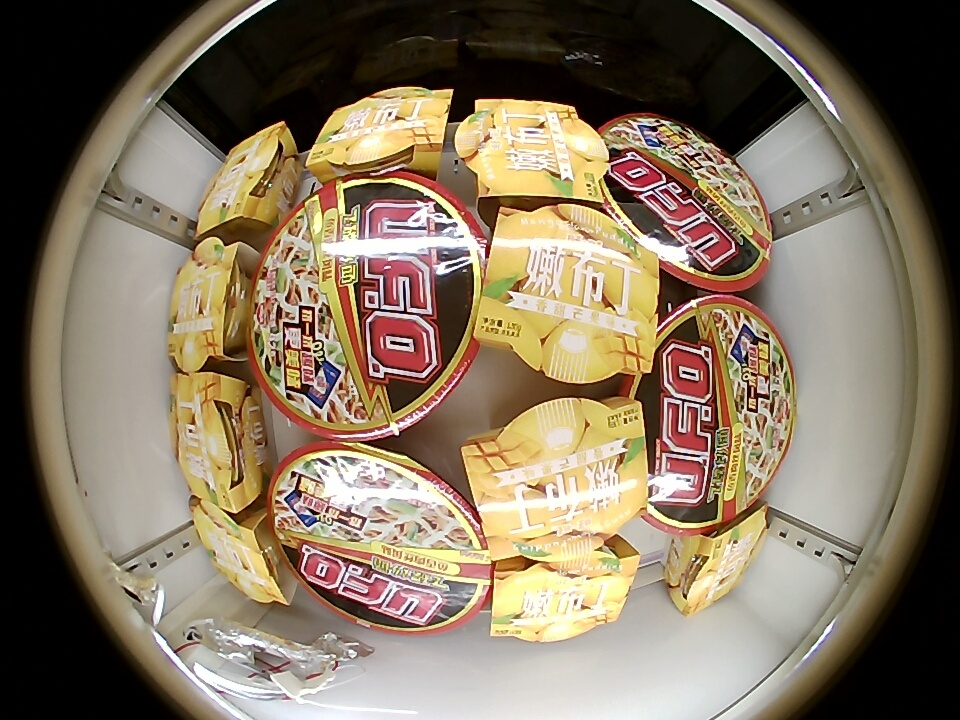buding: (474, 200, 659, 385), (462, 396, 648, 560), (456, 99, 608, 202), (490, 547, 640, 643), (170, 372, 266, 513), (306, 87, 450, 178), (196, 121, 296, 241), (666, 506, 769, 616), (168, 236, 248, 371), (191, 499, 290, 604)
ufo2: (247, 172, 487, 442), (271, 442, 492, 635), (641, 295, 795, 533), (599, 112, 773, 294)
